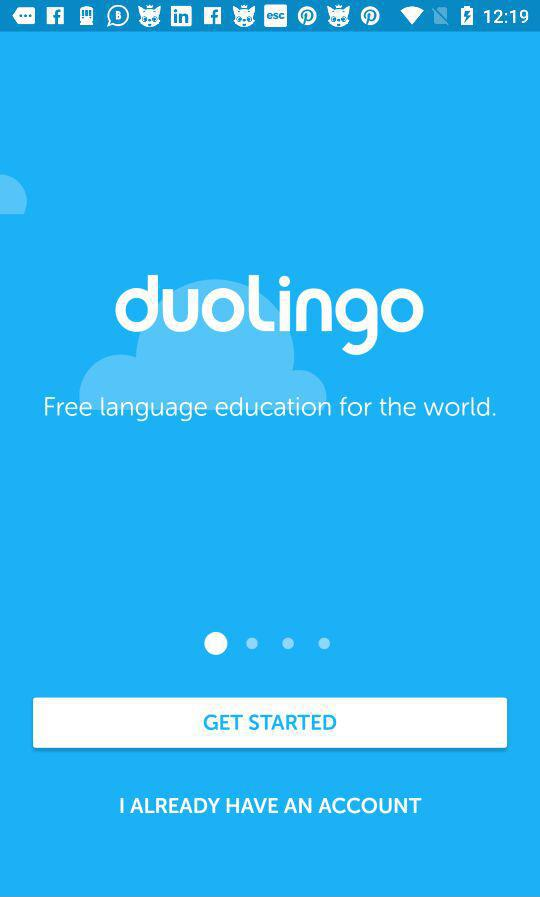PageIndicator: (203, 631, 333, 657)
Text: (114, 273, 425, 358), (44, 395, 497, 423), (120, 796, 423, 815)
TextButton: (33, 697, 508, 749)
UpperTaskBar: (1, 1, 540, 33)
